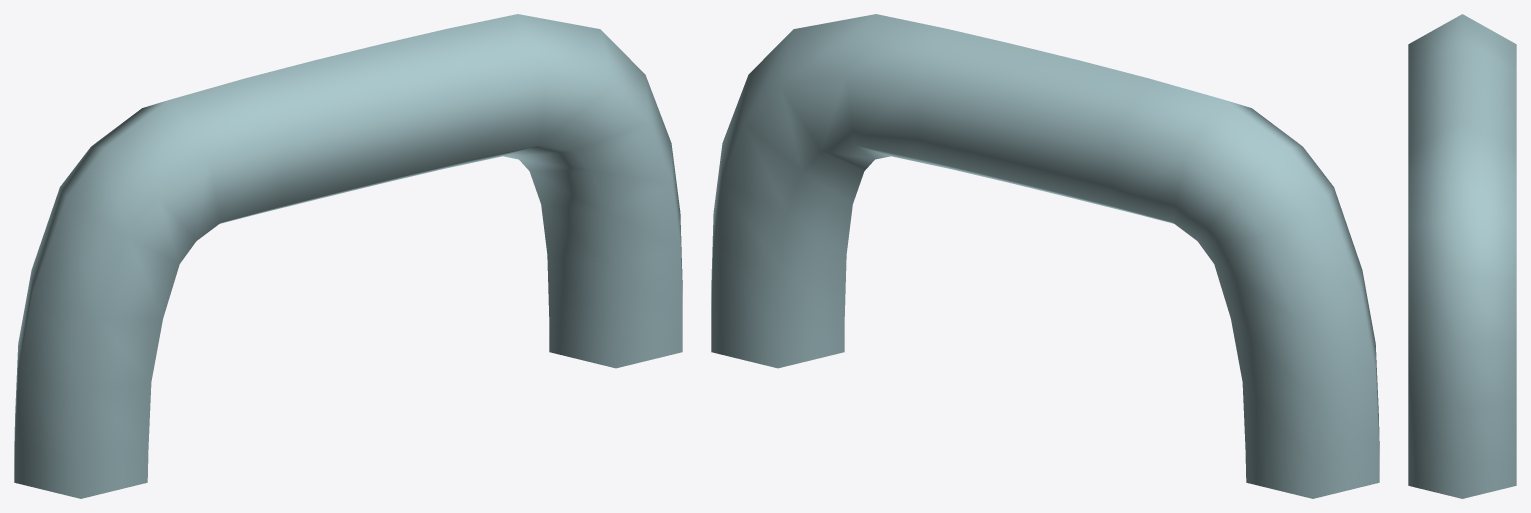
Rendered from circular_saw_holder.fbx.
3 views of the same model, side by side, from view 1: azimuth 30°, elevation 25°; view 2: azimuth 150°, elevation 25°; view 3: azimuth 270°, elevation 25° (orthographic). The views are drawn at different scales.
Parts seen in each view (by area): view 1: circular_saw_holder; view 2: circular_saw_holder; view 3: circular_saw_holder.
Part boxes in pixels (x1,y1,x2,y2): circular_saw_holder: (14,14,682,498); circular_saw_holder: (711,14,1379,498); circular_saw_holder: (1408,14,1516,498).
Size of the model in its own units: 83.44 by 14.42 by 41.64.
